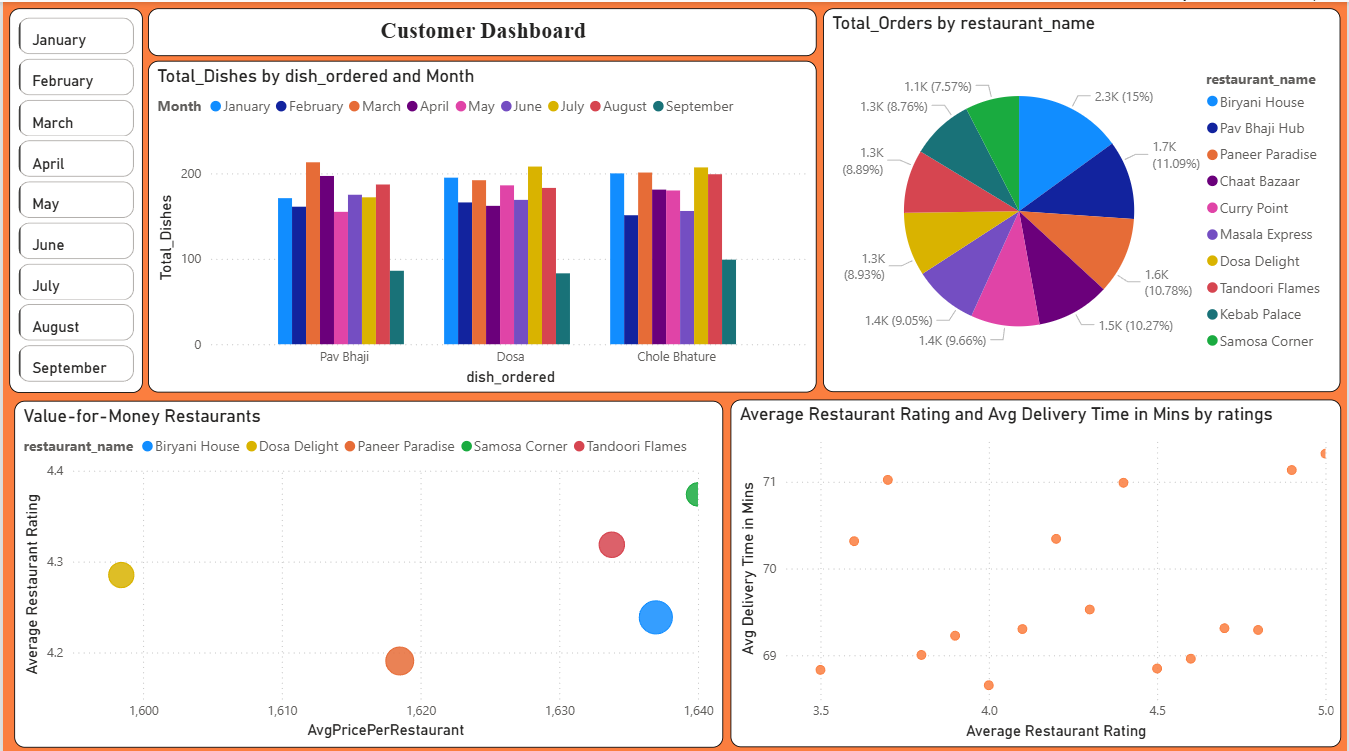

This screenshot's page, from the dashboard's own definition file:
{"tool":"powerbi","page":{"name":"Customer Dashboard","canvas":[1280,720],"ordinal":1},"visuals":[{"type":"textbox","box":[138.6,5.7,637.1,45.7],"z":0},{"type":"advancedSlicerVisual","fields":{"Values":["Custom_Calender.Date.Variation.Date Hierarchy.Month"]},"box":[6.2,5.4,126.9,366.2],"z":1000},{"type":"scatterChart","fields":{"Category":["restaurants.ratings"],"Y":["orders.Avg Delivery Time in Mins"],"X":["orders.Average Restaurant Rating"]},"box":[692.7,379.1,581.8,330.9],"z":2000},{"type":"clusteredColumnChart","fields":{"Category":["orders.dish_ordered"],"Y":["orders.Total_Dishes"],"Series":["Custom_Calender.Date.Variation.Date Hierarchy.Month"]},"box":[138.6,55.7,637.1,315.7],"z":3000},{"type":"pieChart","fields":{"Y":["orders.Total_Orders"],"Category":["restaurants.restaurant_name"]},"box":[781.4,5.7,492.9,365.7],"z":4000},{"type":"scatterChart","title":"Value-for-Money Restaurants","fields":{"X":["orders.AvgPricePerRestaurant"],"Y":["orders.Average Restaurant Rating"],"Series":["restaurants.restaurant_name"],"Size":["delivery_partners.OrderRevenue"]},"box":[10.8,379.2,675.4,330.8],"z":5000}]}

Visuals, with their boxes in screenshot pixels (x1, y1, x2, y2), scaled from the page's 1280x720 canvas onto the 1349x751 screenshot:
textbox: {"left": 146, "top": 6, "right": 818, "bottom": 54}
advancedSlicerVisual - Custom_Calender.Date.Variation.Date Hierarchy.Month: {"left": 7, "top": 6, "right": 140, "bottom": 388}
scatterChart - restaurants.ratings x orders.Avg Delivery Time in Mins: {"left": 730, "top": 395, "right": 1343, "bottom": 741}
clusteredColumnChart - orders.dish_ordered x orders.Total_Dishes: {"left": 146, "top": 58, "right": 818, "bottom": 387}
pieChart - orders.Total_Orders x restaurants.restaurant_name: {"left": 824, "top": 6, "right": 1343, "bottom": 387}
"Value-for-Money Restaurants" scatterChart: {"left": 11, "top": 396, "right": 723, "bottom": 741}
